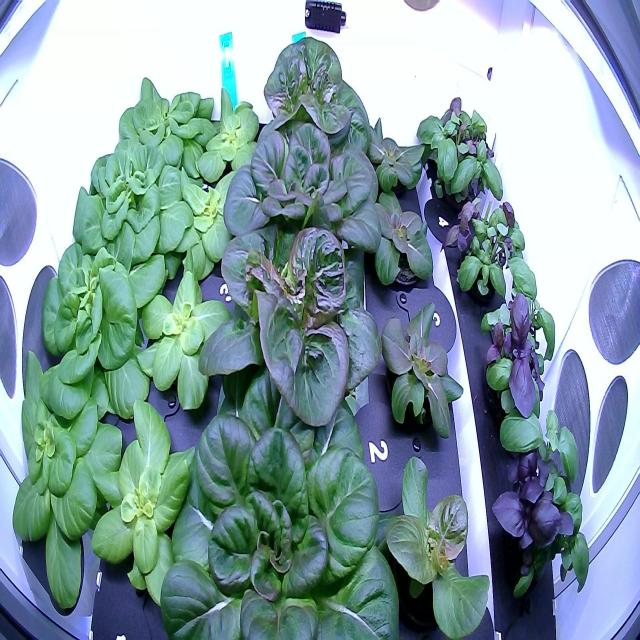Ready: (152, 353, 408, 640), (192, 193, 392, 436), (214, 104, 386, 295), (250, 26, 376, 186)
young: (7, 345, 128, 622), (88, 391, 207, 611), (370, 444, 498, 640), (36, 239, 168, 424), (63, 132, 196, 270), (129, 260, 238, 420), (374, 290, 469, 450), (163, 162, 257, 286), (107, 74, 219, 178), (354, 176, 440, 298), (194, 85, 272, 195), (347, 108, 432, 205)
